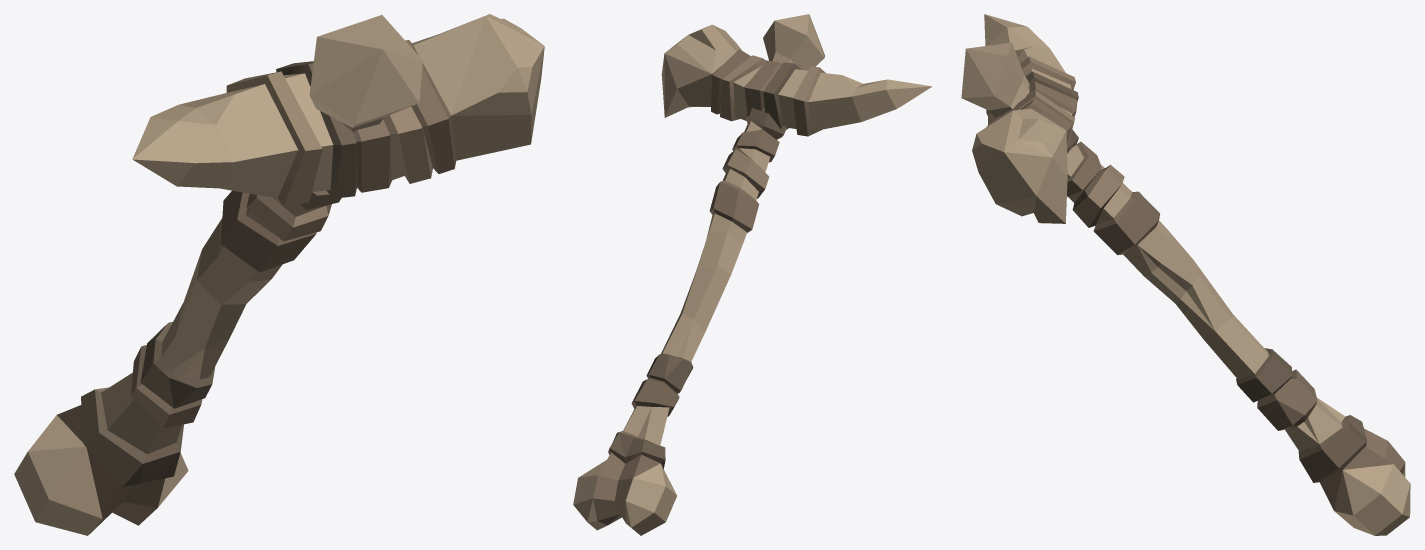
File: gb-axe-02.glb
3 renders of one model, left to right at view 1: azimuth 30°, elevation 25°; view 2: azimuth 150°, elevation 25°; view 3: azimuth 270°, elevation 25°, orthographic. The views are drawn at different scales.
Parts seen in each view (by area): view 1: gb-axe-02; view 2: gb-axe-02; view 3: gb-axe-02.
Boxes of the visible parts, x1,y1,x2,y2 form: gb-axe-02: (14, 14, 544, 535); gb-axe-02: (573, 14, 932, 535); gb-axe-02: (961, 14, 1410, 535).
Size of the model in its own units: 0.4326 by 0.659 by 0.5712.
1 material, 1 textured.
